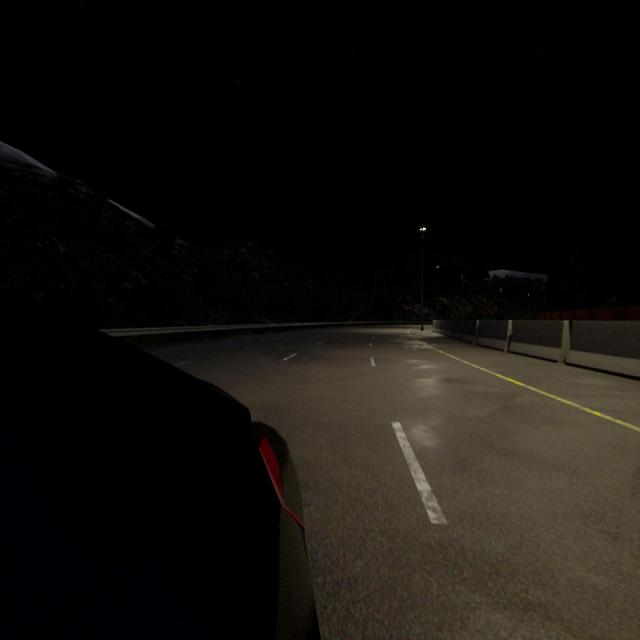Vehicle: (0, 238, 326, 640)
